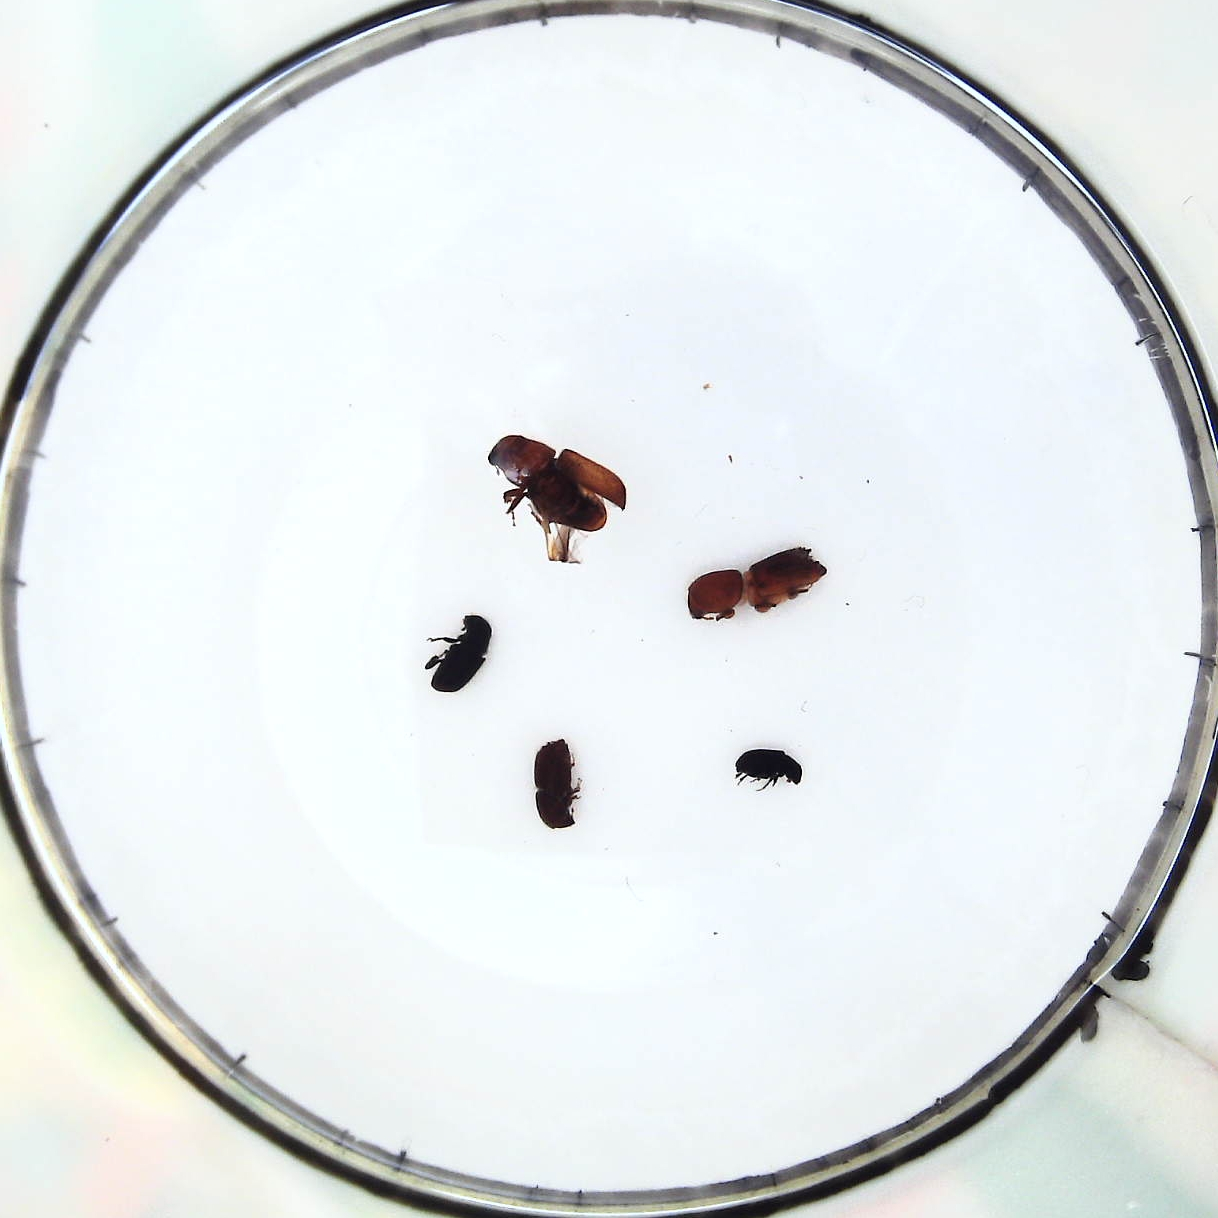Boerner: (689, 549, 826, 630)
Leconte: (492, 432, 631, 565)
Linnaeus: (538, 734, 584, 825)
armandi: (423, 617, 489, 698)
coleoptera: (736, 742, 804, 797)
